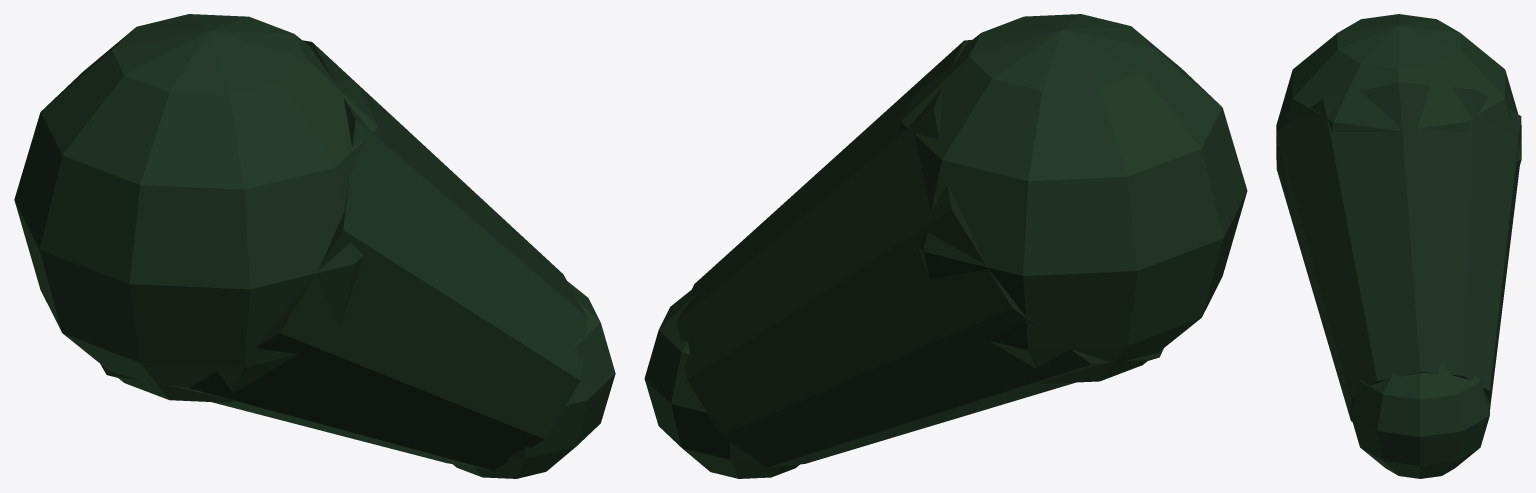
File: SM_velociraptor_hind_l_Upper.fbx
3 views of the same model, side by side, from view 1: azimuth 30°, elevation 25°; view 2: azimuth 150°, elevation 25°; view 3: azimuth 270°, elevation 25° (orthographic). The views are drawn at different scales.
Parts seen in each view (by area): view 1: SM_velociraptor_hind_l_Upper export; view 2: SM_velociraptor_hind_l_Upper export; view 3: SM_velociraptor_hind_l_Upper export.
Part boxes in pixels (bbox=[...]): SM_velociraptor_hind_l_Upper export: bbox=[14, 14, 615, 478]; SM_velociraptor_hind_l_Upper export: bbox=[644, 14, 1247, 478]; SM_velociraptor_hind_l_Upper export: bbox=[1276, 14, 1521, 478].
Bounding box in the file's own units: 228 × 127 × 199.
